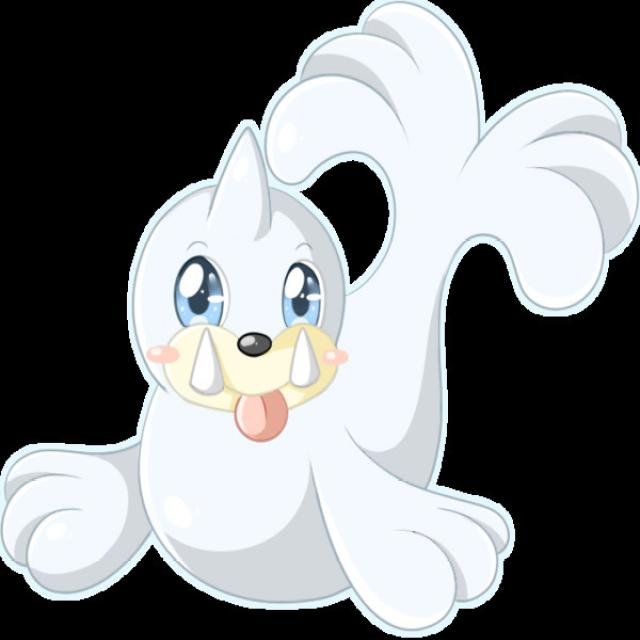Seel: (90, 34, 586, 616)
